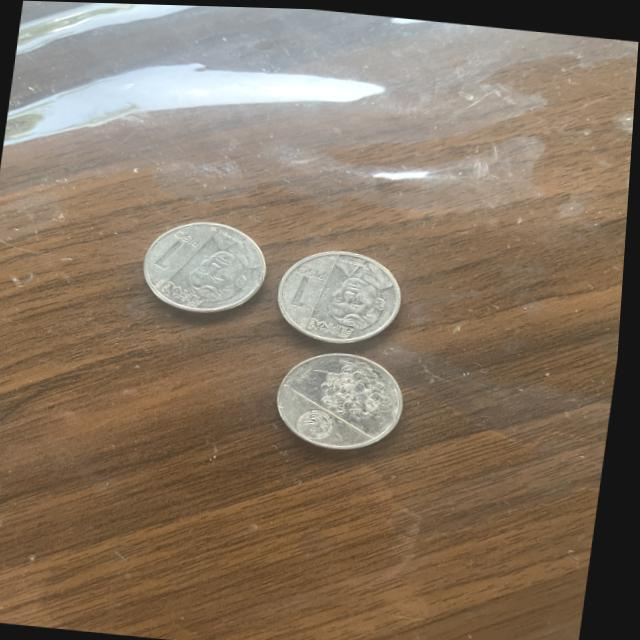1_New_Back: (313, 349, 407, 419)
1_New_Front: (151, 223, 208, 291), (283, 255, 338, 323)
